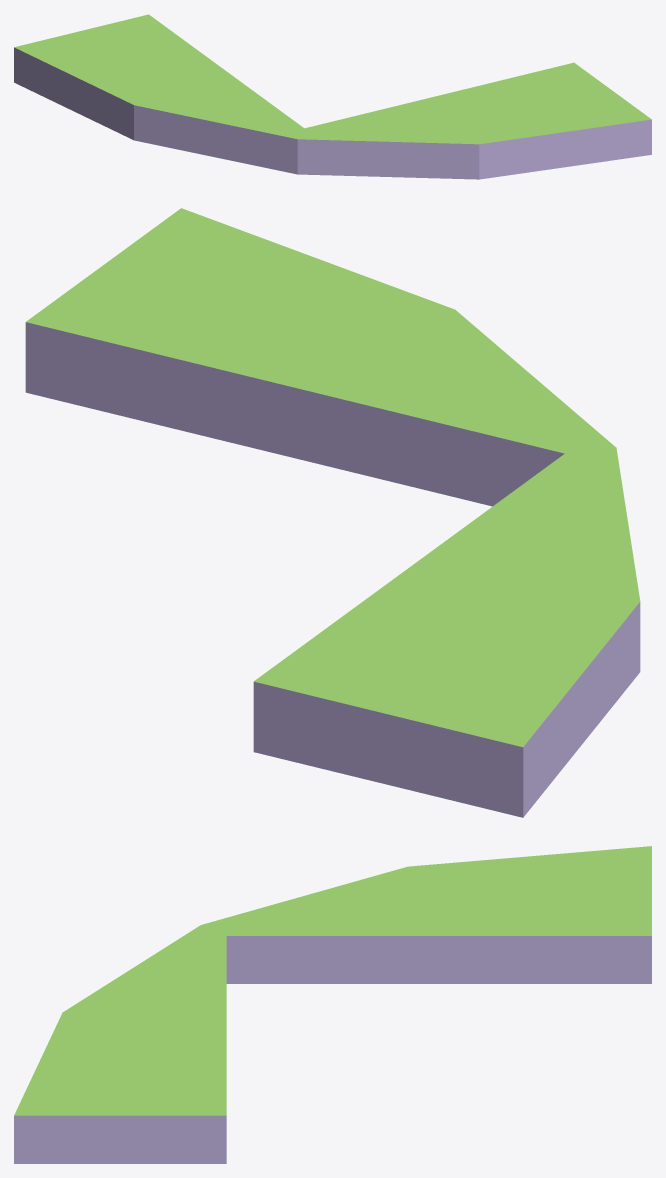
The model's file is Tiered_Grass_Curve_Outer_3x3.glb.
3 renders of one model, top to bottom at view 1: azimuth 30°, elevation 25°; view 2: azimuth 150°, elevation 25°; view 3: azimuth 270°, elevation 25°, orthographic. The views are drawn at different scales.
Parts seen in each view (by area): view 1: Tiered_Grass_Curve_Outer_3x3; view 2: Tiered_Grass_Curve_Outer_3x3; view 3: Tiered_Grass_Curve_Outer_3x3.
Boxes of the visible parts, x1=… form: Tiered_Grass_Curve_Outer_3x3: x1=14, y1=14, x2=651, y2=179; Tiered_Grass_Curve_Outer_3x3: x1=25, y1=208, x2=640, y2=817; Tiered_Grass_Curve_Outer_3x3: x1=14, y1=846, x2=651, y2=1163.
Bounding box in the file's own units: 300 × 25 × 300.
